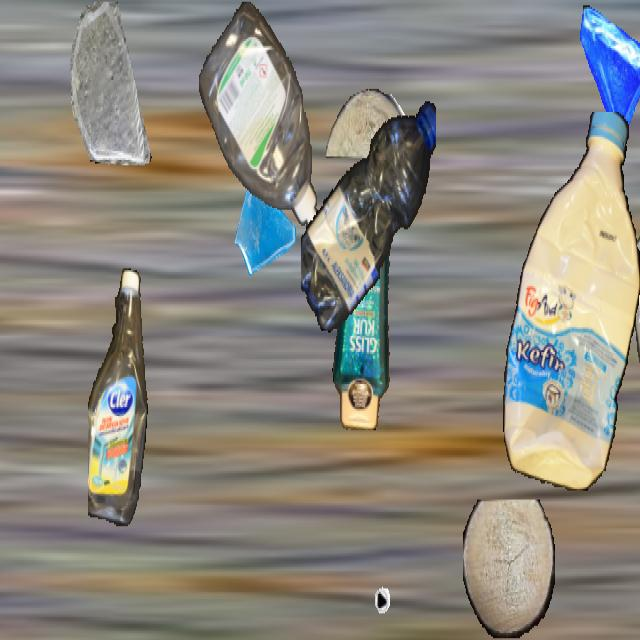glass: (65, 2, 157, 165), (574, 2, 640, 148), (233, 167, 299, 285)
metal: (337, 516, 397, 622), (628, 428, 640, 538)
plastic: (499, 112, 640, 489), (301, 89, 435, 338), (199, 2, 319, 233), (328, 176, 400, 428), (88, 268, 148, 524), (631, 220, 640, 420)
wood: (463, 500, 555, 638), (326, 89, 410, 156)
